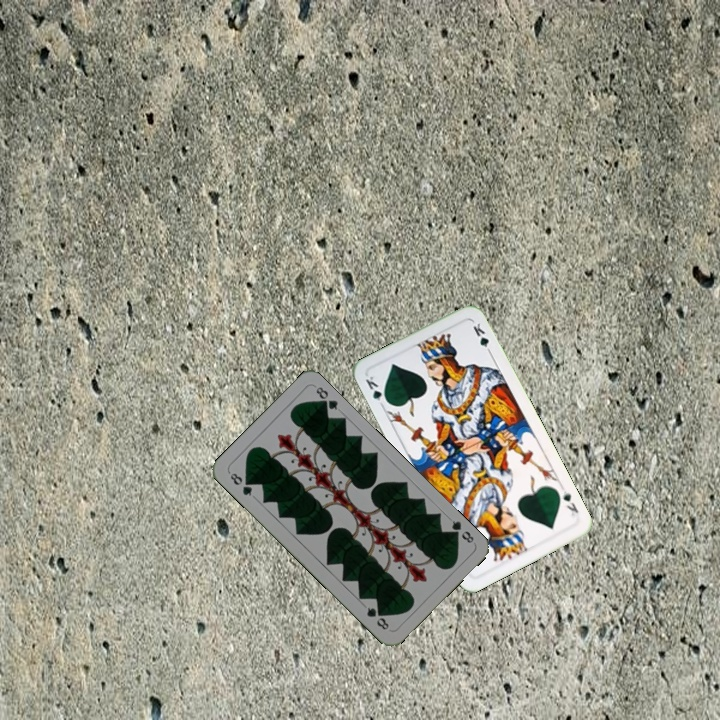G8: (445, 516, 476, 546), (226, 469, 255, 499)
GK: (361, 372, 391, 410), (559, 486, 581, 518)
